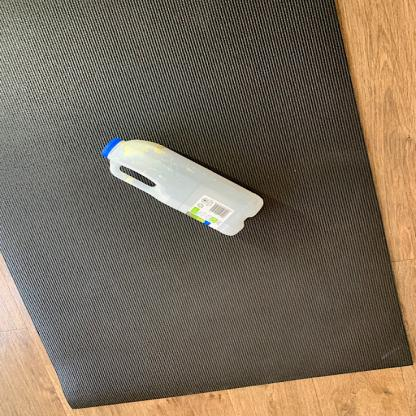trash: (100, 135, 266, 238)
